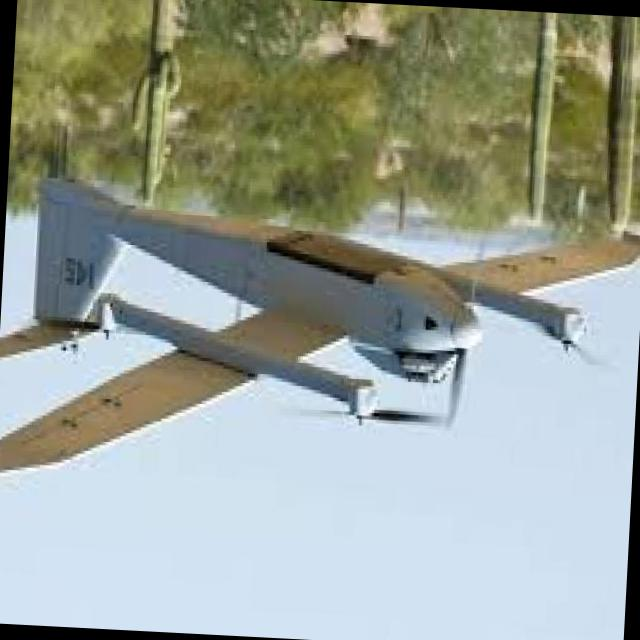UAV: (14, 103, 564, 441)
